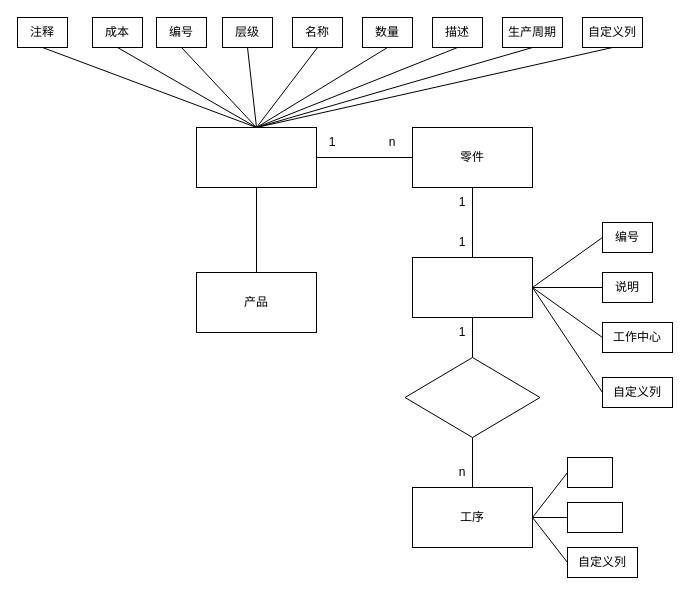
The diagram is 690 pixels wide and 595 high, and some of its shapes have lost their labels. The shapes that lost their labels are listed below. From the top down, each one's box as (x1, y1, x2, y2) in pixels, then its label:
(196, 126, 316, 188): BOM表
(412, 256, 532, 318): 工艺路线
(404, 356, 540, 438): 包含
(566, 456, 612, 488): 工序号
(566, 502, 622, 532): 工序说明
